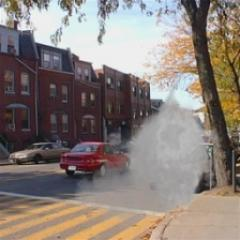smoke: (72, 76, 227, 232)
